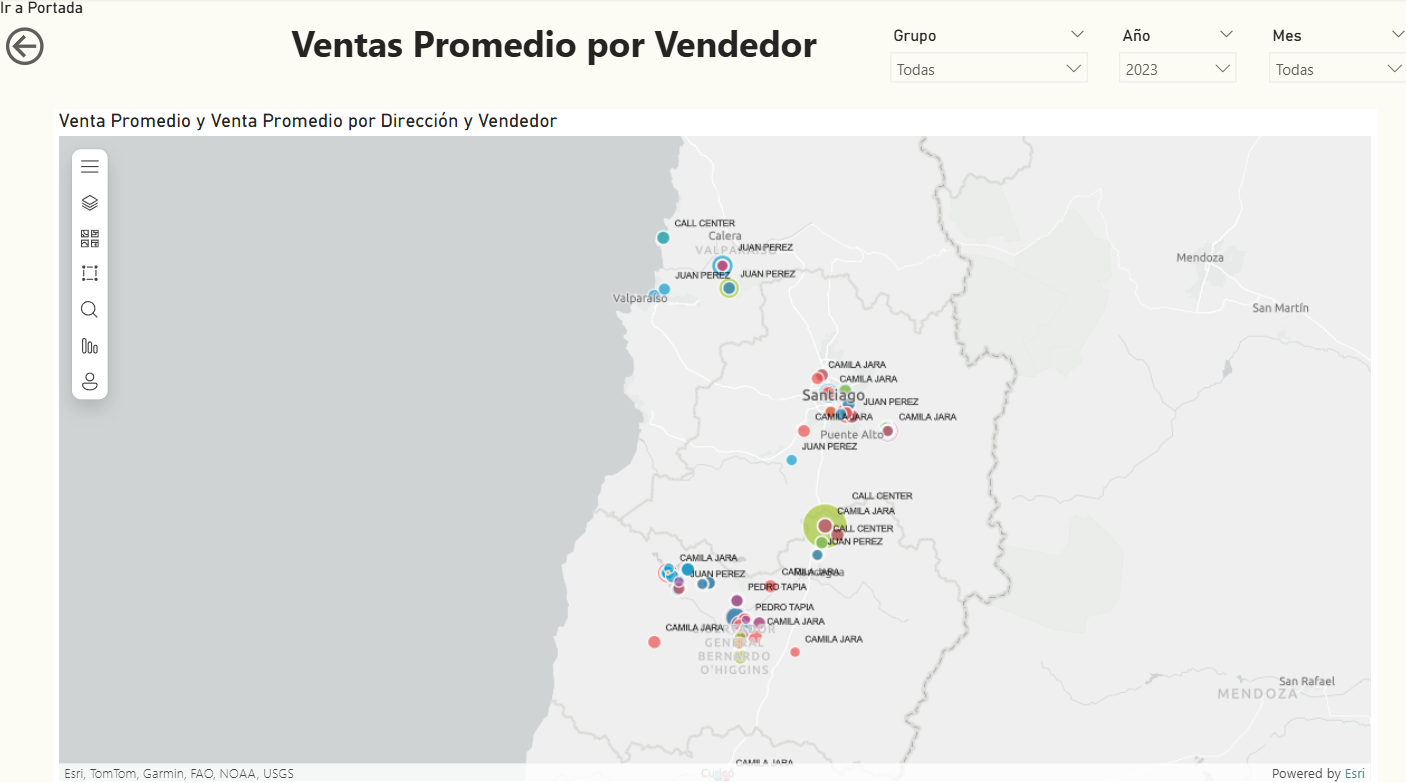

The dashboard page shown, as its layout file describes it:
{"tool":"powerbi","page":{"name":"Mapa Ventas Promedio","canvas":[1280,720],"ordinal":4},"visuals":[{"type":"esriVisual","fields":{"Location":["Clientes.Dirección"],"Size":["Medidas.Venta_Neta_Promedio"],"Color":["Maestra_Vendedores.Vendedor"]},"box":[47.5,99.4,1184.8,607.2],"z":0},{"type":"textbox","box":[215.8,12.5,560.6,78.8],"z":1000},{"type":"slicer","fields":{"Values":["Calendar.Fecha.Variación.Jerarquía de fechas.Año"]},"box":[992.2,20.6,125.4,62.7],"z":2000},{"type":"slicer","fields":{"Values":["Calendar.Fecha.Variación.Jerarquía de fechas.Mes"]},"box":[1126.6,20.6,145.1,62.7],"z":3000},{"type":"slicer","fields":{"Values":["Productos.Grupo"]},"box":[787.2,20.6,197,62.7],"z":4000},{"type":"actionButton","title":"Ir a Portada","box":[0,0,120.9,65.4],"z":5000}]}

Visuals, with their boxes in screenshot pixels (x1, y1, x2, y2), scaled from the page's 1280x720 canvas onto the 1406x783 screenshot:
esriVisual - Clientes.Dirección x Medidas.Venta_Neta_Promedio: pyautogui.locateOnScreen(52, 108, 1354, 768)
textbox: pyautogui.locateOnScreen(237, 14, 853, 99)
slicer - Calendar.Fecha.Variación.Jerarquía de fechas.Año: pyautogui.locateOnScreen(1090, 22, 1228, 91)
slicer - Calendar.Fecha.Variación.Jerarquía de fechas.Mes: pyautogui.locateOnScreen(1237, 22, 1397, 91)
slicer - Productos.Grupo: pyautogui.locateOnScreen(865, 22, 1081, 91)
"Ir a Portada" actionButton: pyautogui.locateOnScreen(0, 0, 133, 71)
